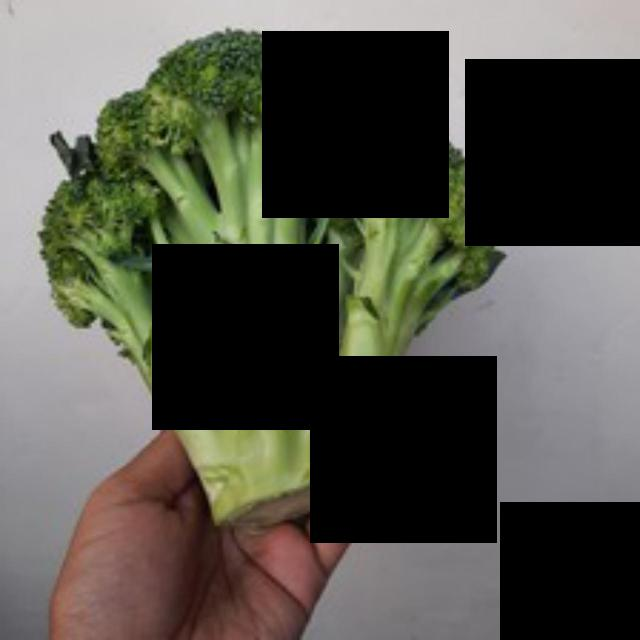broccoli: (42, 24, 504, 537)
